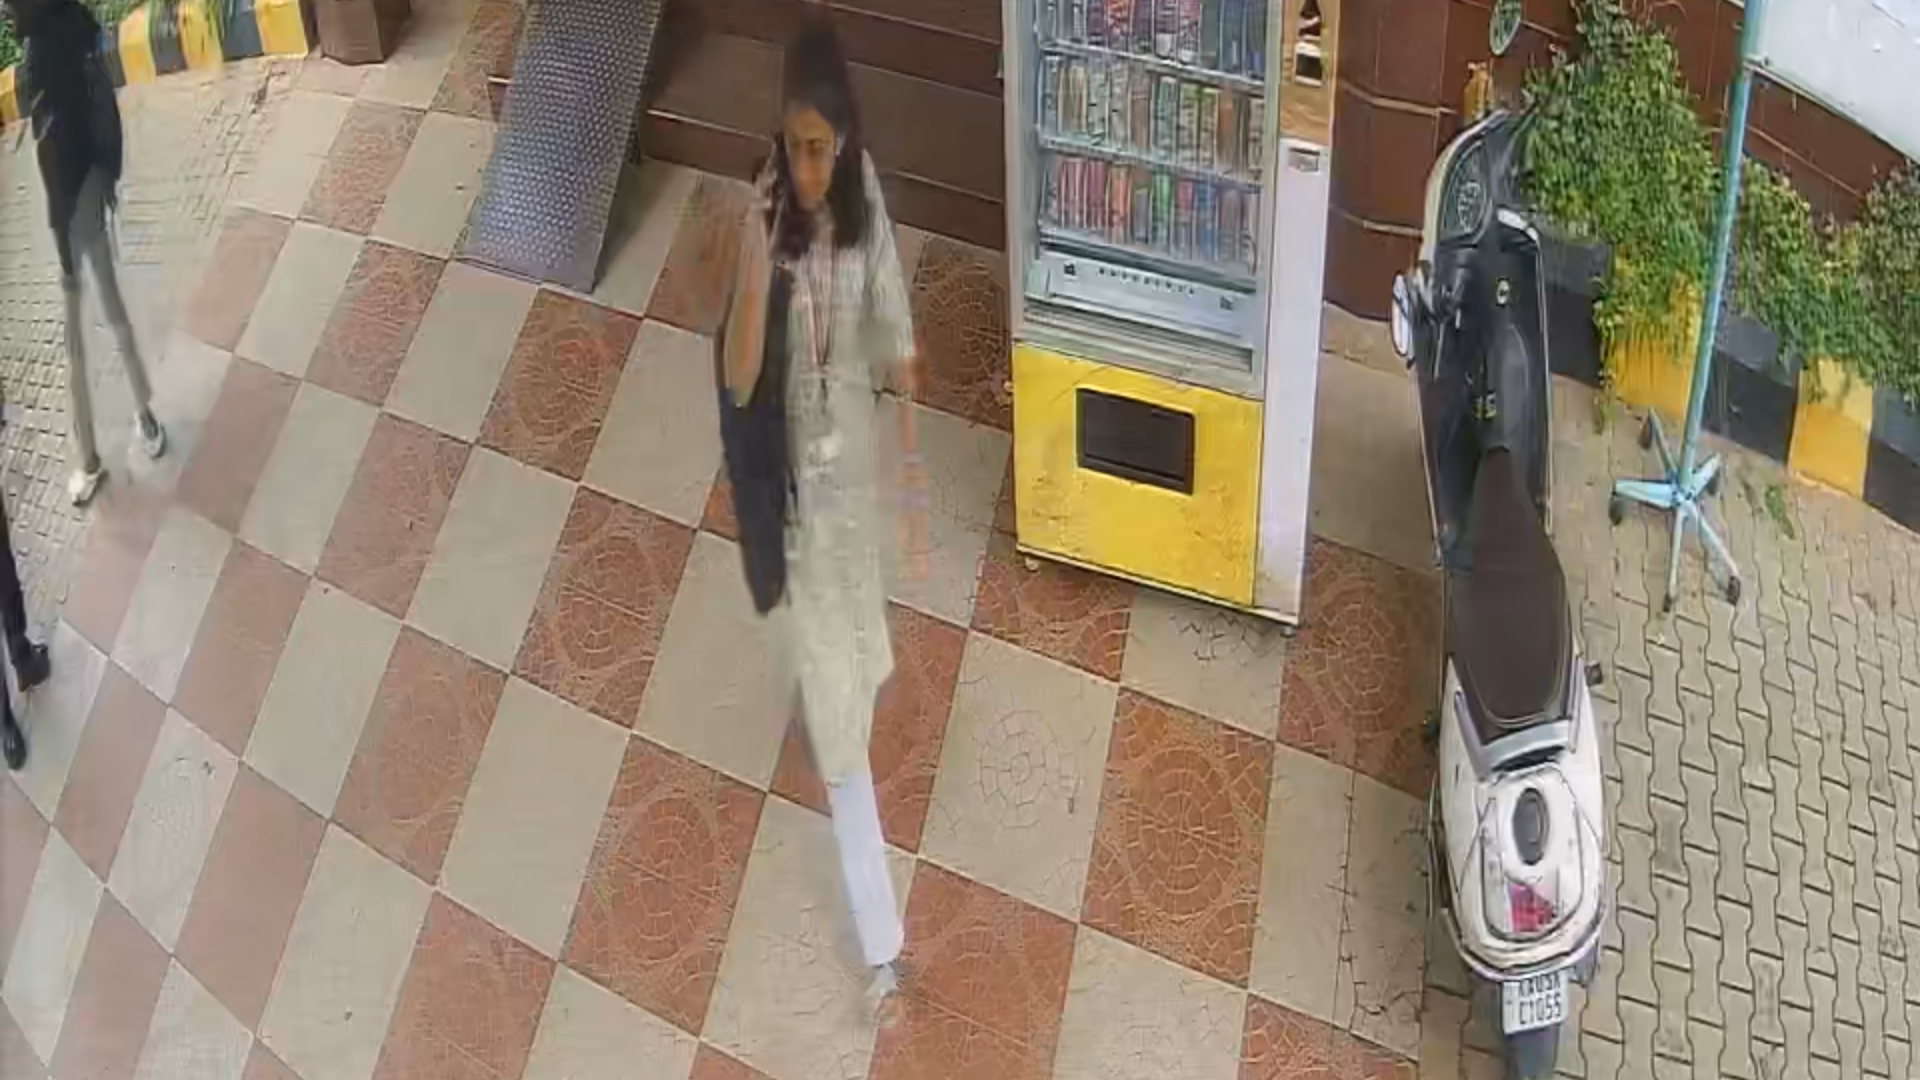not intruder: (723, 11, 915, 1035)
